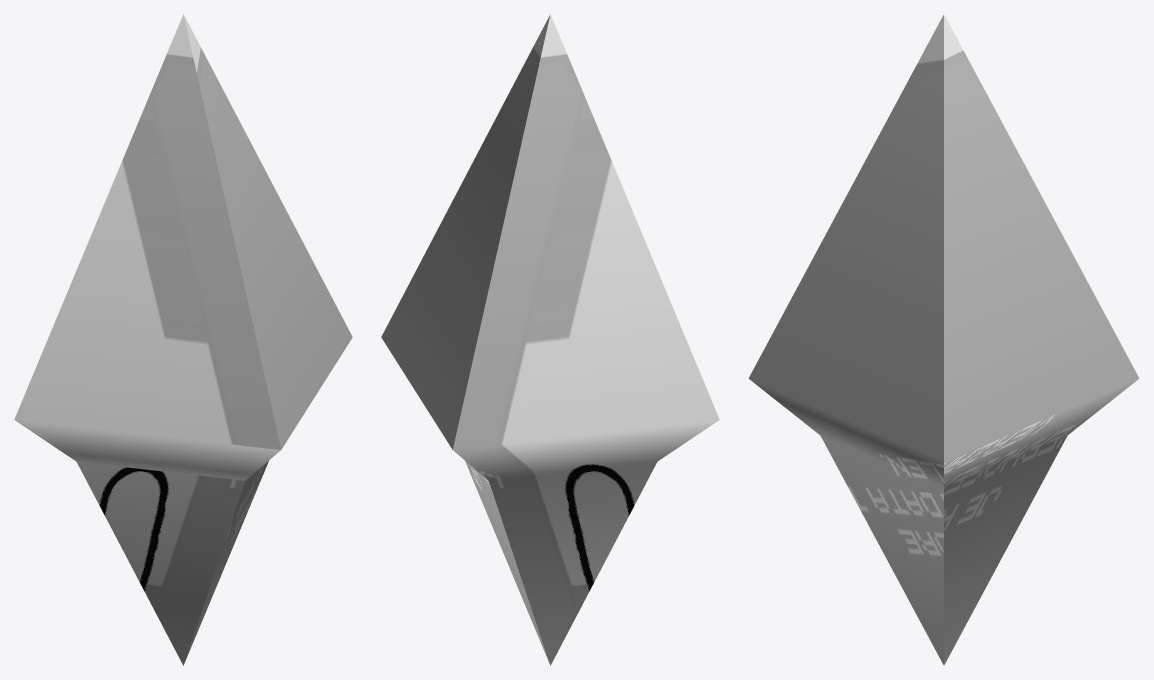
The model's file is Coin.fbx.
3 views of the same model, side by side, from view 1: azimuth 30°, elevation 25°; view 2: azimuth 150°, elevation 25°; view 3: azimuth 270°, elevation 25° (orthographic).
Visible parts, largest first — view 1: pCone5; view 2: pCone5; view 3: pCone5.
Boxes of the visible parts, <box> form: pCone5: <box>14,14,352,665</box>; pCone5: <box>381,14,719,665</box>; pCone5: <box>748,14,1139,665</box>.
Size of the model in its own units: 4.75 by 8.73 by 4.75.
